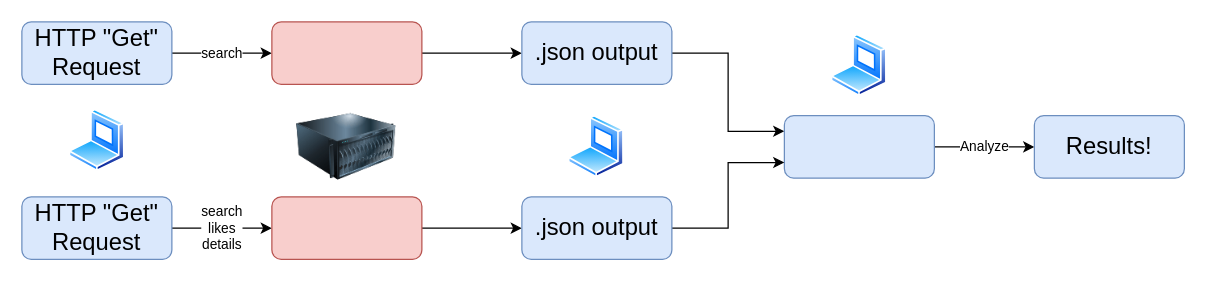
The diagram is 1206 pixels wide and 281 high, and some of its shapes have lost their labels. Here are the shapes that lost their labels. From the top down, the centre of each, then its label:
At [346,52]: "Yelp API".
At [858,146]: "Pandas/SQL".
At [346,227]: "Foursquare API".
